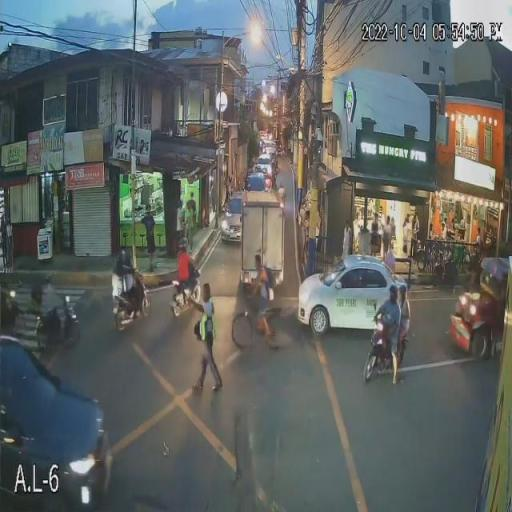helmet: (381, 283, 392, 295), (394, 282, 404, 292)
motorcycle: (362, 314, 408, 384), (34, 302, 81, 352), (110, 274, 151, 330), (169, 276, 206, 318)
rider: (372, 284, 401, 382), (36, 278, 70, 341), (111, 248, 143, 314), (176, 244, 197, 305), (392, 283, 410, 353)
